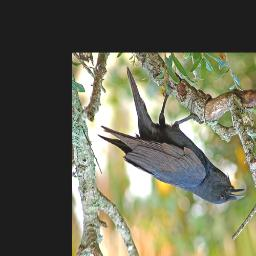Crow: (96, 65, 246, 205)
